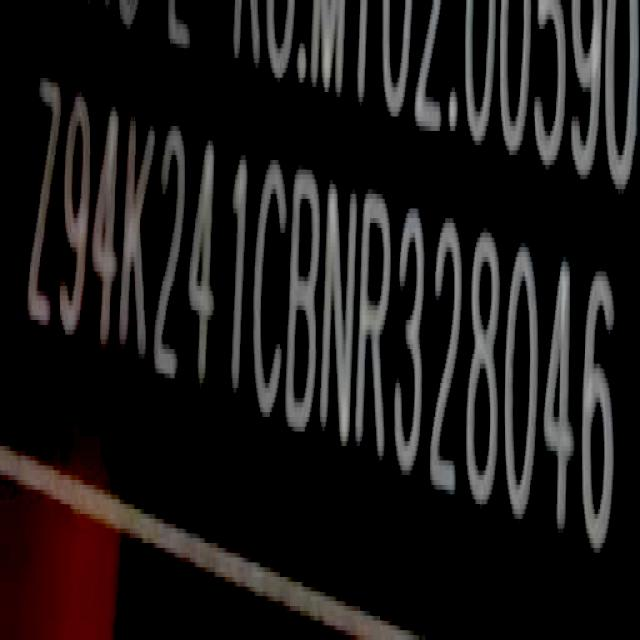0: (504, 245, 540, 528)
1: (224, 156, 249, 404)
2: (153, 124, 185, 386), (432, 223, 462, 497)
3: (394, 214, 427, 483)
4: (542, 255, 576, 541), (189, 140, 221, 392), (93, 103, 122, 353)
6: (583, 275, 619, 557)
8: (465, 227, 500, 510)
9: (59, 93, 92, 344)
B: (290, 168, 323, 437)
C: (254, 159, 288, 417)
K: (119, 110, 156, 370)
N: (321, 175, 357, 448)
R: (358, 192, 392, 464)
Z: (23, 72, 64, 338)
